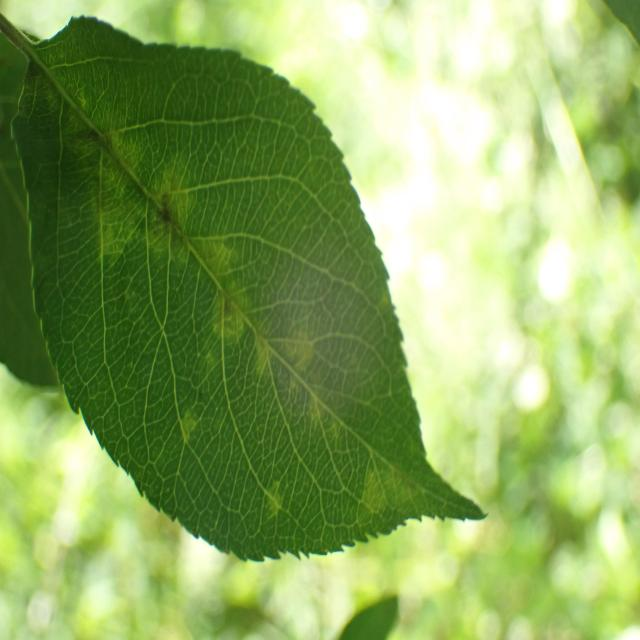scab: (85, 88, 418, 546)
